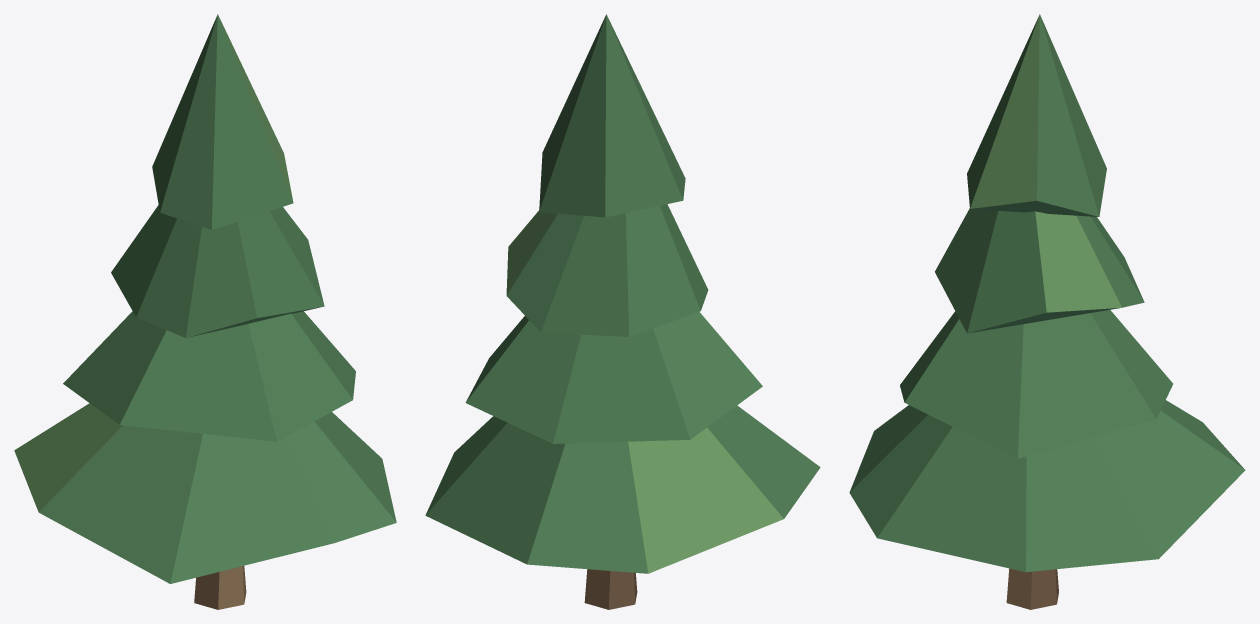
File: Pine_2.glb
3 renders of one model, left to right at view 1: azimuth 30°, elevation 25°; view 2: azimuth 150°, elevation 25°; view 3: azimuth 270°, elevation 25°, orthographic.
Visible parts, largest first — view 1: Pine_2; view 2: Pine_2; view 3: Pine_2.
Part boxes in pixels (left/top/right/bottom): Pine_2: left=14, top=14, right=396, bottom=609; Pine_2: left=425, top=14, right=820, bottom=609; Pine_2: left=849, top=14, right=1245, bottom=609.
Size of the model in its own units: 0.6008 by 0.9945 by 0.6112.
